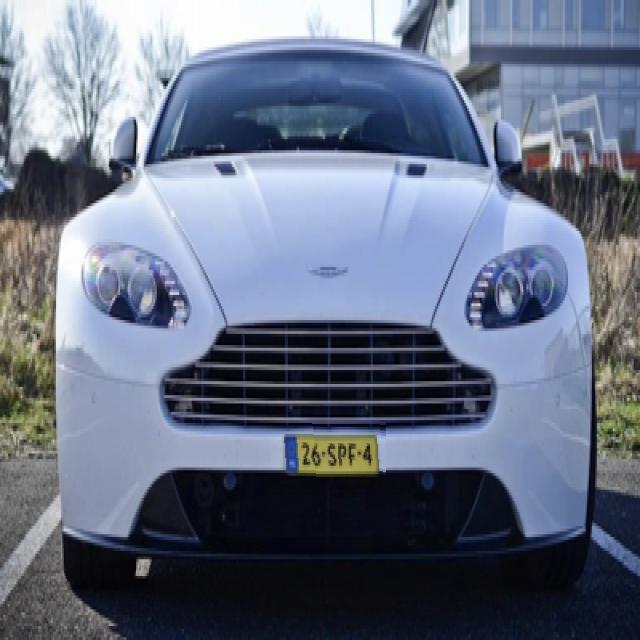licence: (278, 420, 386, 484)
